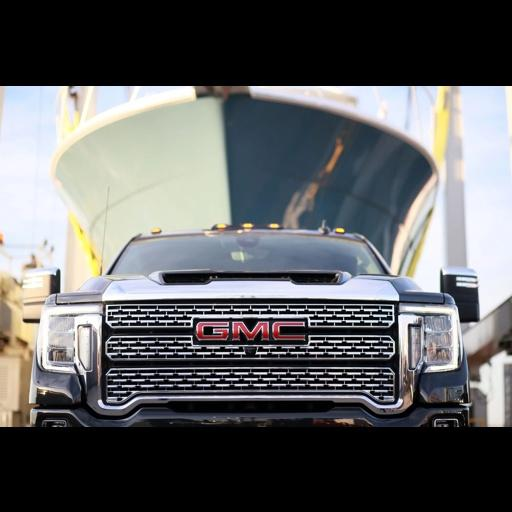truck: (16, 220, 486, 427)
